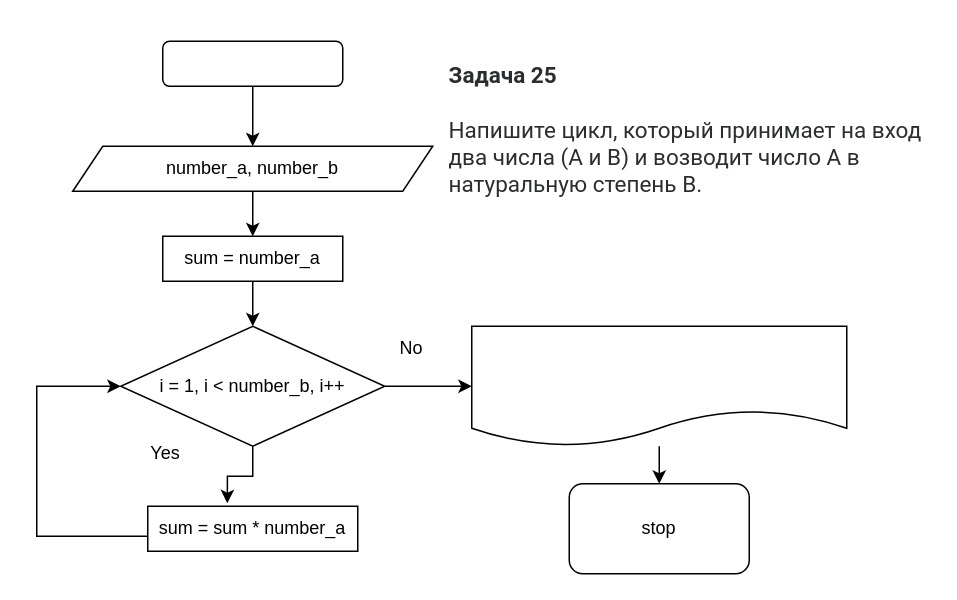
Image size: 957x600. Some labels were removed from this diagram. The box of each missing label's shape, as (x1, y1, x2, y2) in pixels:
number_a в number_b степени равно sum: (470, 325, 847, 446)
start: (161, 40, 343, 86)
